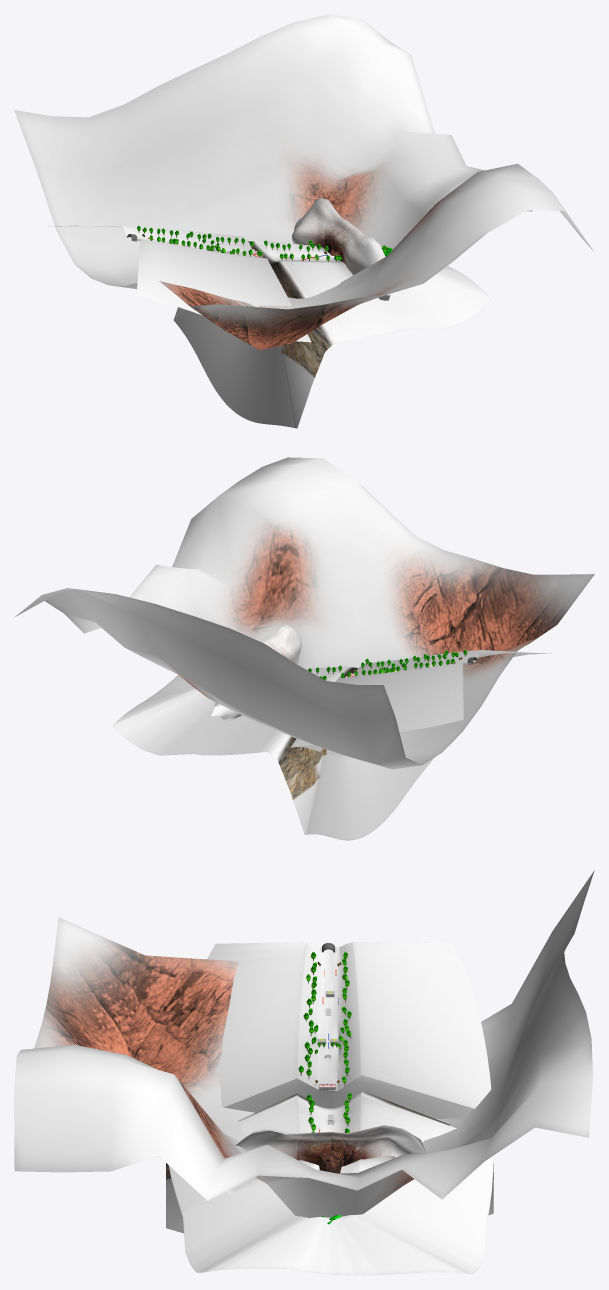
The model's file is Funpark.FBX.
3 views of the same model, one above another, from view 1: azimuth 30°, elevation 25°; view 2: azimuth 150°, elevation 25°; view 3: azimuth 270°, elevation 25° (orthographic). The views are drawn at different scales.
Parts seen in each view (by area): view 1: pPlane2, pPlane1, pPlane3, polySurface9; view 2: pPlane2, pPlane1, pPlane3, polySurface9; view 3: pPlane2, pPlane3, pPlane1, polySurface9.
Boxes of the visible parts, left/top/right/bottom form: pPlane2: left=14, top=14, right=593, bottom=350; pPlane1: left=173, top=239, right=491, bottom=428; pPlane3: left=48, top=225, right=311, bottom=342; polySurface9: left=291, top=197, right=390, bottom=300; pPlane2: left=15, top=457, right=594, bottom=769; pPlane1: left=113, top=666, right=434, bottom=840; pPlane3: left=290, top=650, right=551, bottom=756; polySurface9: left=211, top=625, right=301, bottom=720; pPlane2: left=14, top=870, right=594, bottom=1217; pPlane3: left=207, top=942, right=491, bottom=1118; pPlane1: left=166, top=1091, right=493, bottom=1275; polySurface9: left=226, top=1125, right=426, bottom=1195.
Size of the model in its own units: 60.56 by 39.69 by 58.99.
